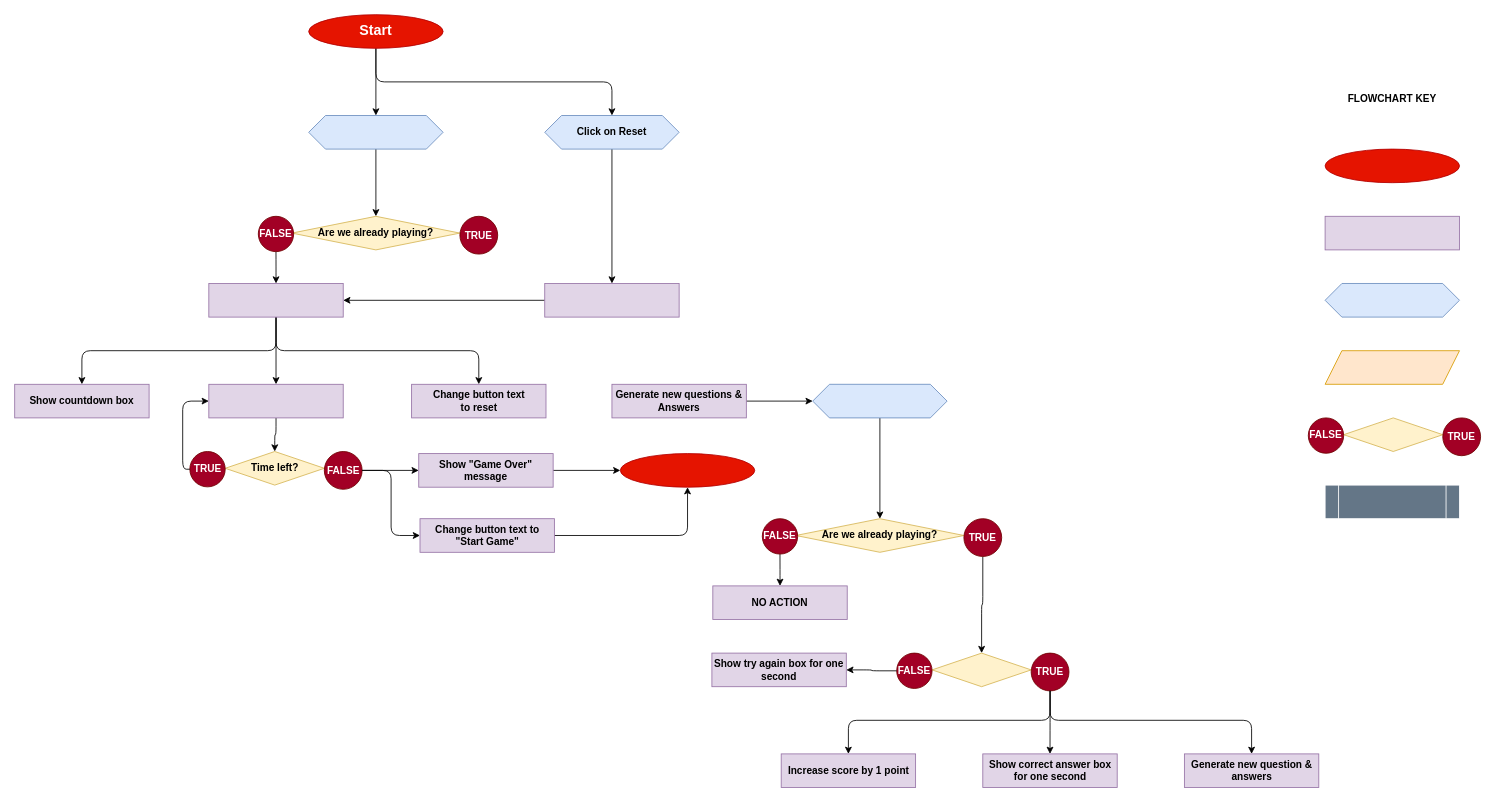
This 1496x802 diagram has some shape labels left out. Each missing label, with the centre of its shape:
Click on answer box: the point at 879,400
Click on START: the point at 375,132
Correct: the point at 981,669
Decision: the point at 1393,434
End: the point at 687,470
Event: the point at 1392,300
Generic step: the point at 1392,232
Input OR Output: the point at 1392,367
Reduce time by one second: the point at 275,400
Reload page: the point at 611,300
Start / End: the point at 1392,165
Start new game: the point at 275,300
subroutine / subprogram: the point at 1392,501
